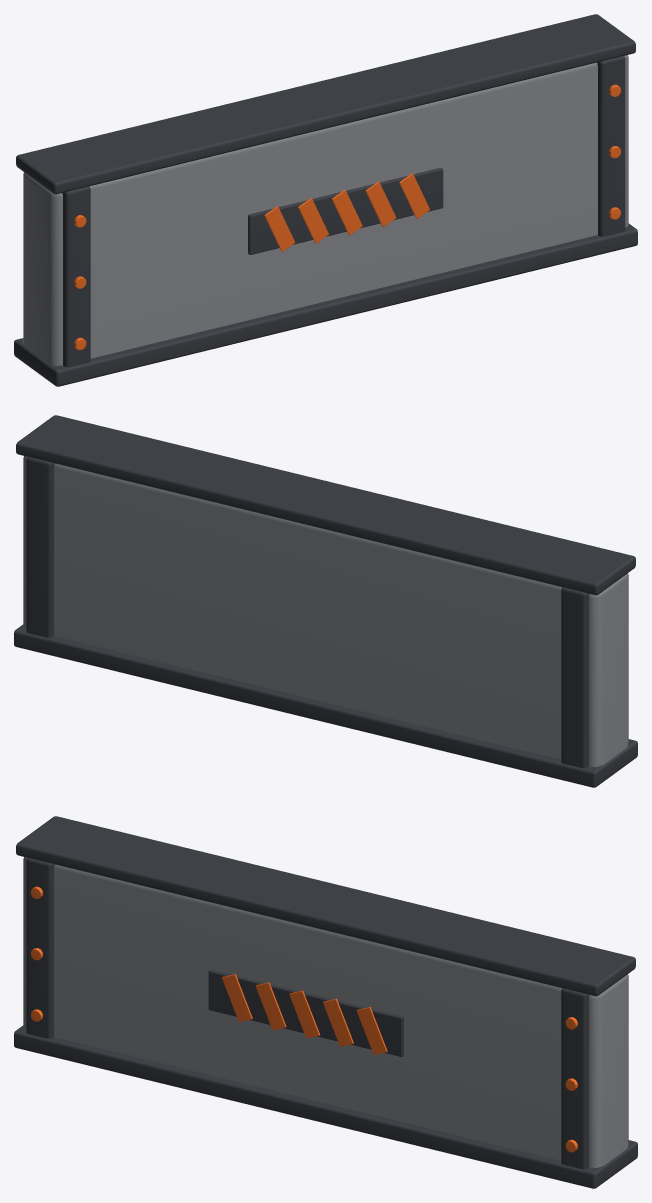
The model's file is arena_block.glb.
The picture shows the model from 3 angles, top to bottom: view 1: azimuth 30°, elevation 25°; view 2: azimuth 150°, elevation 25°; view 3: azimuth 330°, elevation 25°; orthographic projection.
Visible parts, largest first — view 1: Concrete core, Steel cap, Steel foot, Hazard inset, End armor, End armor.001, Hazard slash, Hazard slash.002, Hazard slash.004, Hazard slash.001, Hazard slash.003; view 2: Concrete core, Steel cap, Steel foot, End armor, End armor.001; view 3: Concrete core, Steel cap, Steel foot, Hazard inset, End armor.001, End armor, Hazard slash.004, Hazard slash.002, Hazard slash.003, Hazard slash.001, Hazard slash.
Part boxes in pixels (x1=…): Concrete core: x1=23, y1=55, x2=628, y2=365; Steel cap: x1=16, y1=14, x2=635, y2=194; Steel foot: x1=14, y1=223, x2=637, y2=386; Hazard inset: x1=248, y1=168, x2=443, y2=254; End armor: x1=62, y1=186, x2=90, y2=367; End armor.001: x1=597, y1=56, x2=625, y2=236; Hazard slash: x1=264, y1=206, x2=295, y2=251; Hazard slash.002: x1=332, y1=189, x2=362, y2=235; Hazard slash.004: x1=399, y1=173, x2=429, y2=218; Hazard slash.001: x1=298, y1=198, x2=328, y2=243; Hazard slash.003: x1=365, y1=181, x2=396, y2=227; Concrete core: x1=23, y1=456, x2=628, y2=766; Steel cap: x1=16, y1=415, x2=635, y2=595; Steel foot: x1=14, y1=624, x2=637, y2=787; End armor: x1=561, y1=587, x2=589, y2=768; End armor.001: x1=26, y1=457, x2=54, y2=637; Concrete core: x1=23, y1=857, x2=628, y2=1167; Steel cap: x1=16, y1=816, x2=635, y2=996; Steel foot: x1=14, y1=1025, x2=637, y2=1188; Hazard inset: x1=208, y1=970, x2=403, y2=1056; End armor.001: x1=561, y1=988, x2=589, y2=1169; End armor: x1=26, y1=858, x2=54, y2=1038; Hazard slash.004: x1=356, y1=1007, x2=387, y2=1054; Hazard slash.002: x1=289, y1=990, x2=319, y2=1038; Hazard slash.003: x1=323, y1=998, x2=353, y2=1046; Hazard slash.001: x1=255, y1=982, x2=286, y2=1030; Hazard slash: x1=222, y1=974, x2=252, y2=1021.
Size of the model in its own units: 7.95 by 2.65 by 1.06.
